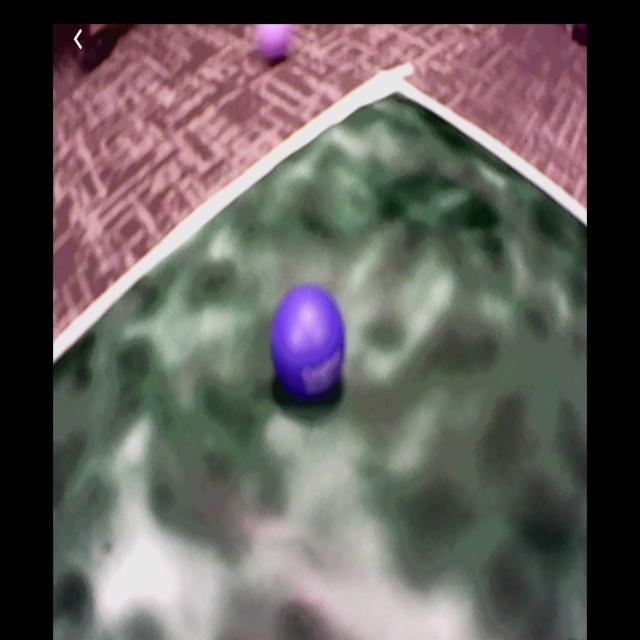ball: (272, 287, 347, 398), (256, 24, 291, 64)
